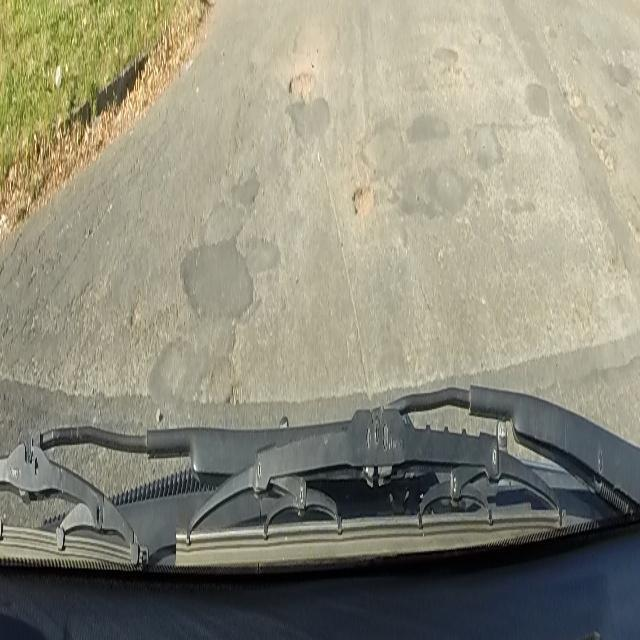pothole: (288, 66, 315, 106), (352, 180, 374, 220)
